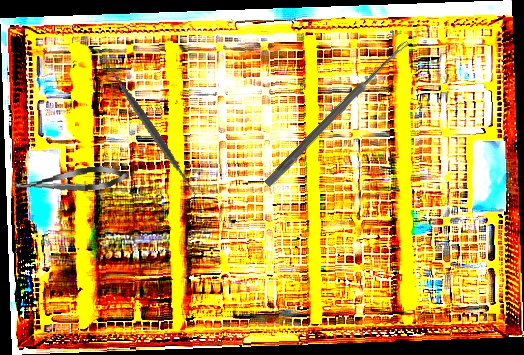Micro Scissor: (11, 163, 130, 198)
Spatula Surgical: (74, 53, 227, 204)
Surgical Spoon: (263, 37, 411, 189)
